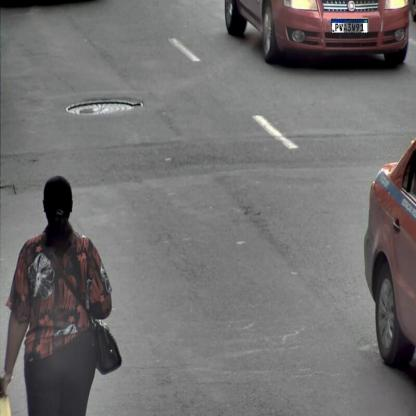PlacaM: (331, 19, 368, 33)
